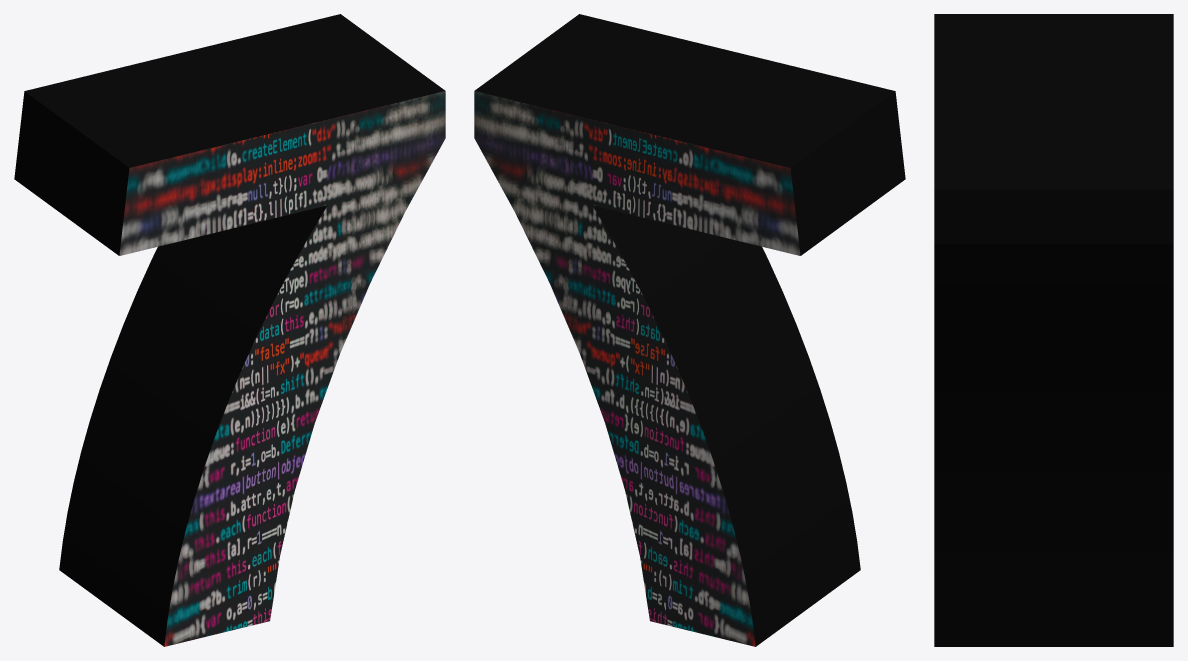
Rendered from nro7.FBX.
The picture shows the model from 3 angles, left to right: view 1: azimuth 30°, elevation 25°; view 2: azimuth 150°, elevation 25°; view 3: azimuth 270°, elevation 25°; orthographic projection. The views are drawn at different scales.
Parts seen in each view (by area): view 1: Text005; view 2: Text005; view 3: Text005.
Part boxes in pixels (bbox=[...]): Text005: bbox=[14, 14, 445, 646]; Text005: bbox=[474, 14, 905, 646]; Text005: bbox=[934, 14, 1173, 646].
Size of the model in its own units: 21.18 by 30.24 by 11.81.
